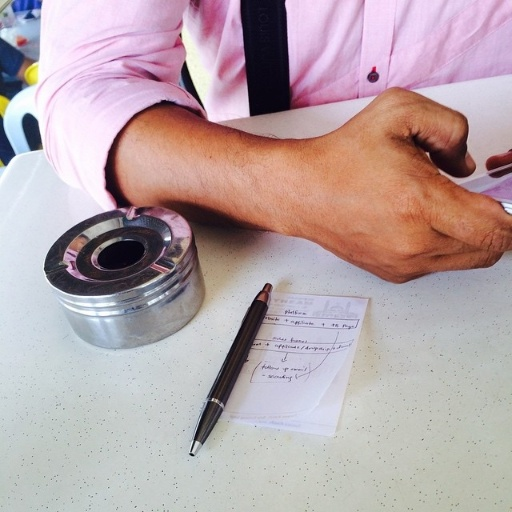hand: (297, 84, 511, 284)
